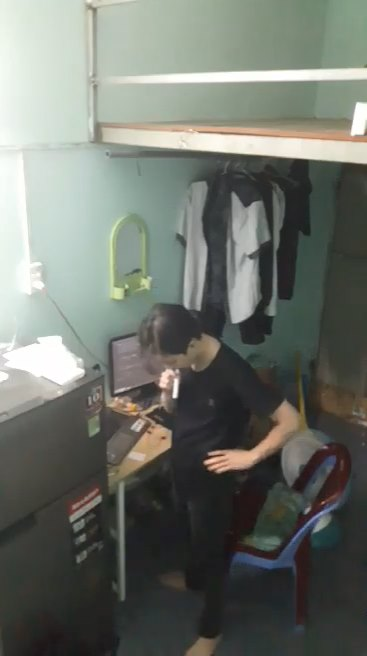cigarette: (168, 367, 185, 402)
person: (131, 300, 311, 656)
